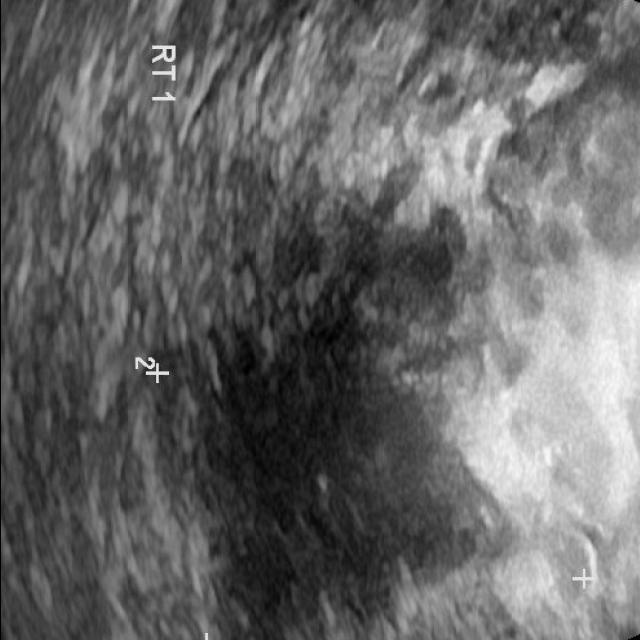Malignant: (192, 349, 484, 613)
